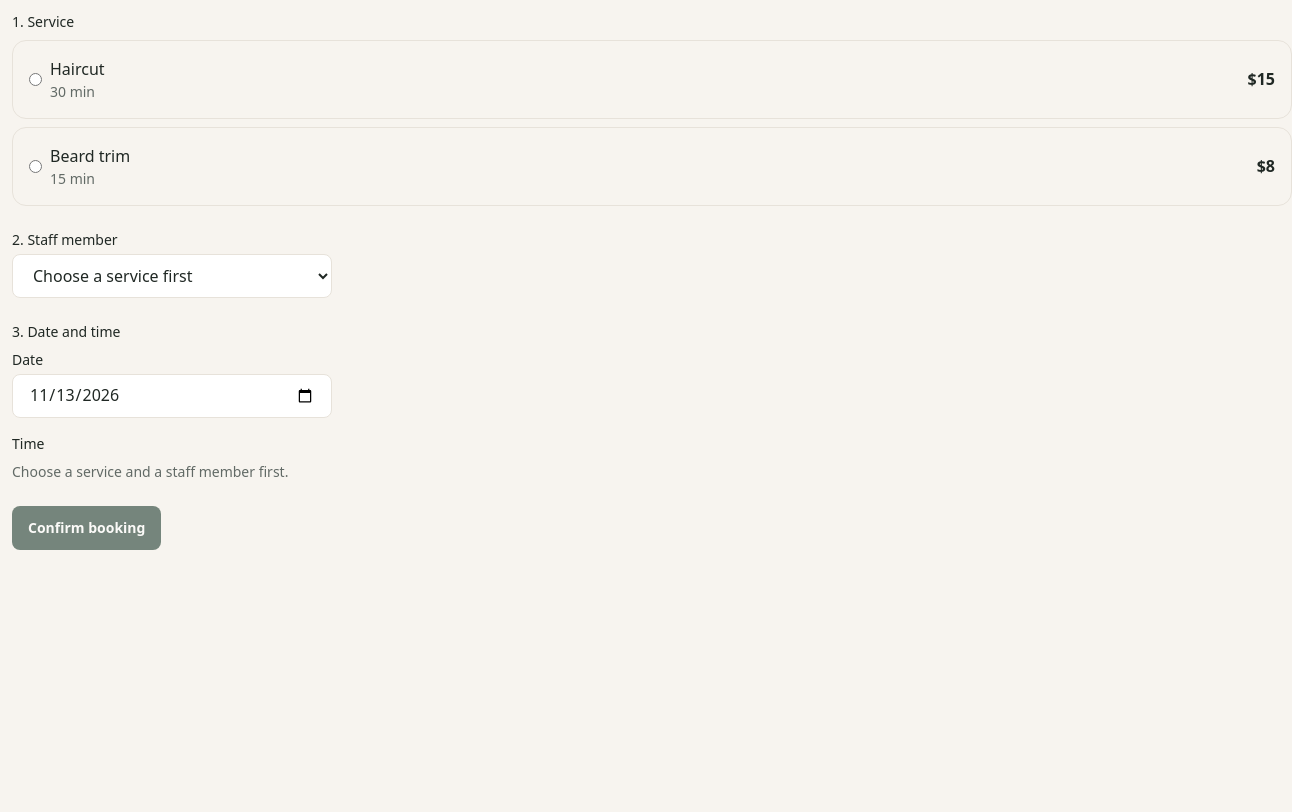
Test: BookingForm › keeps "Confirm booking" disabled until a free time is chosen, then sends the booking
Expected: the button "Confirm booking" is disabled, [12,506,161,550]
Step 1. Click the radio button labelled "Beard trim 15 min $8" → (36, 166), box [29,160,42,173]
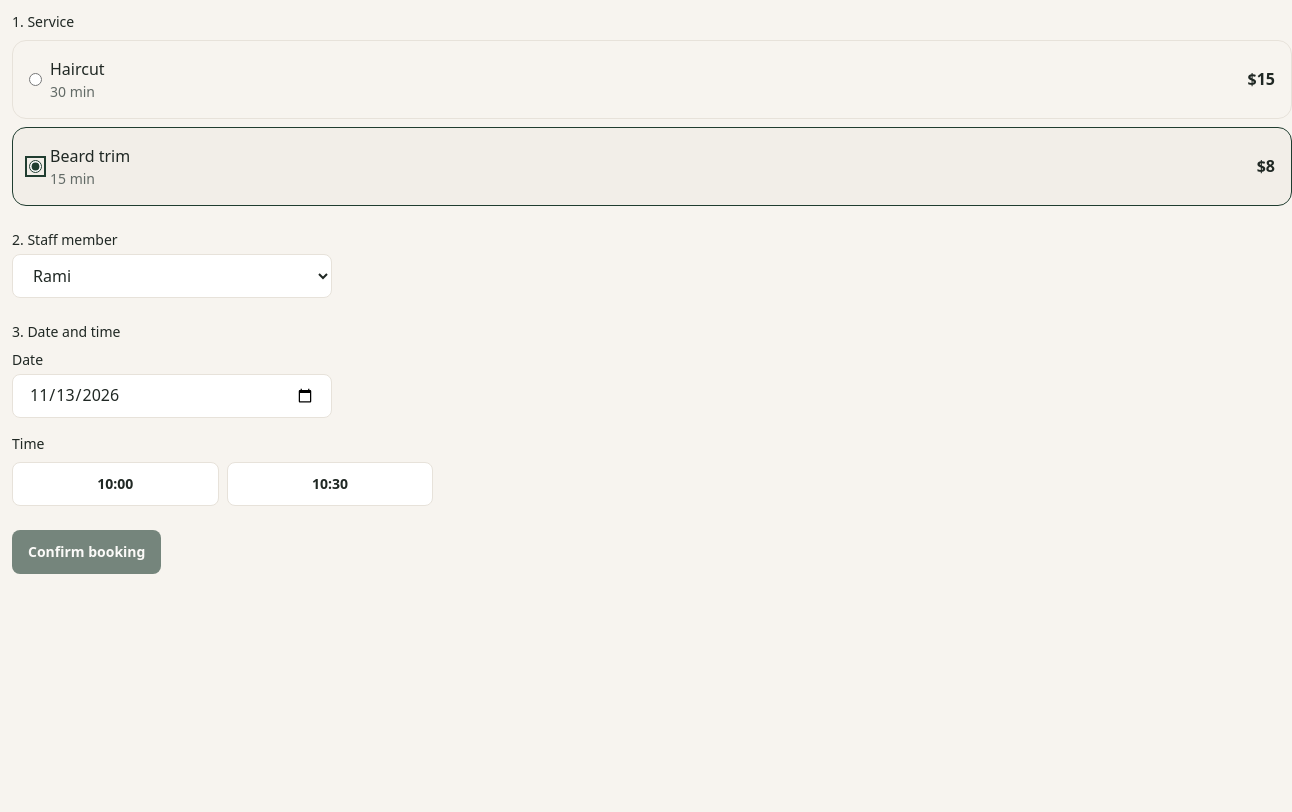
Step 2. Click the button "10:00" → (115, 484), box [12,462,219,506]
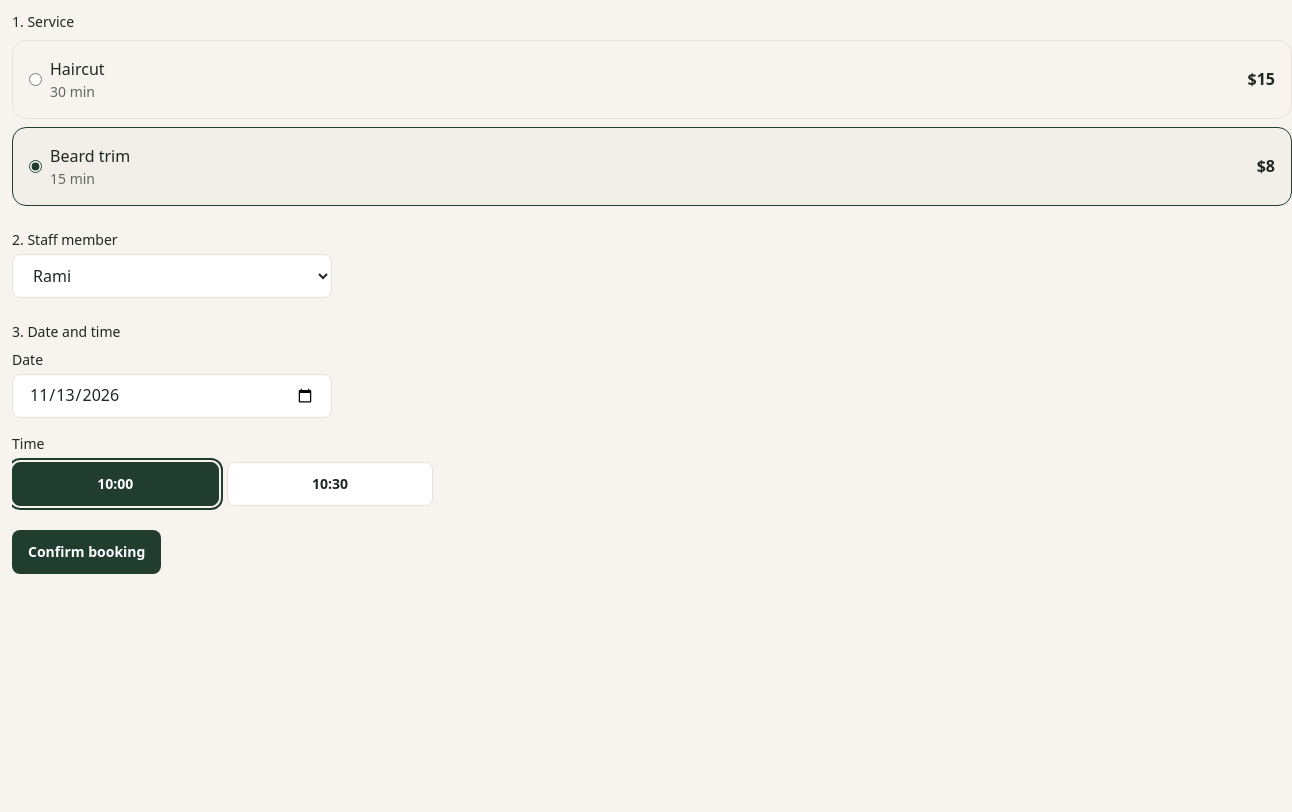
Now the button "Confirm booking" is enabled
Step 3. Click the button "Confirm booking" → (87, 552), box [12,530,161,574]
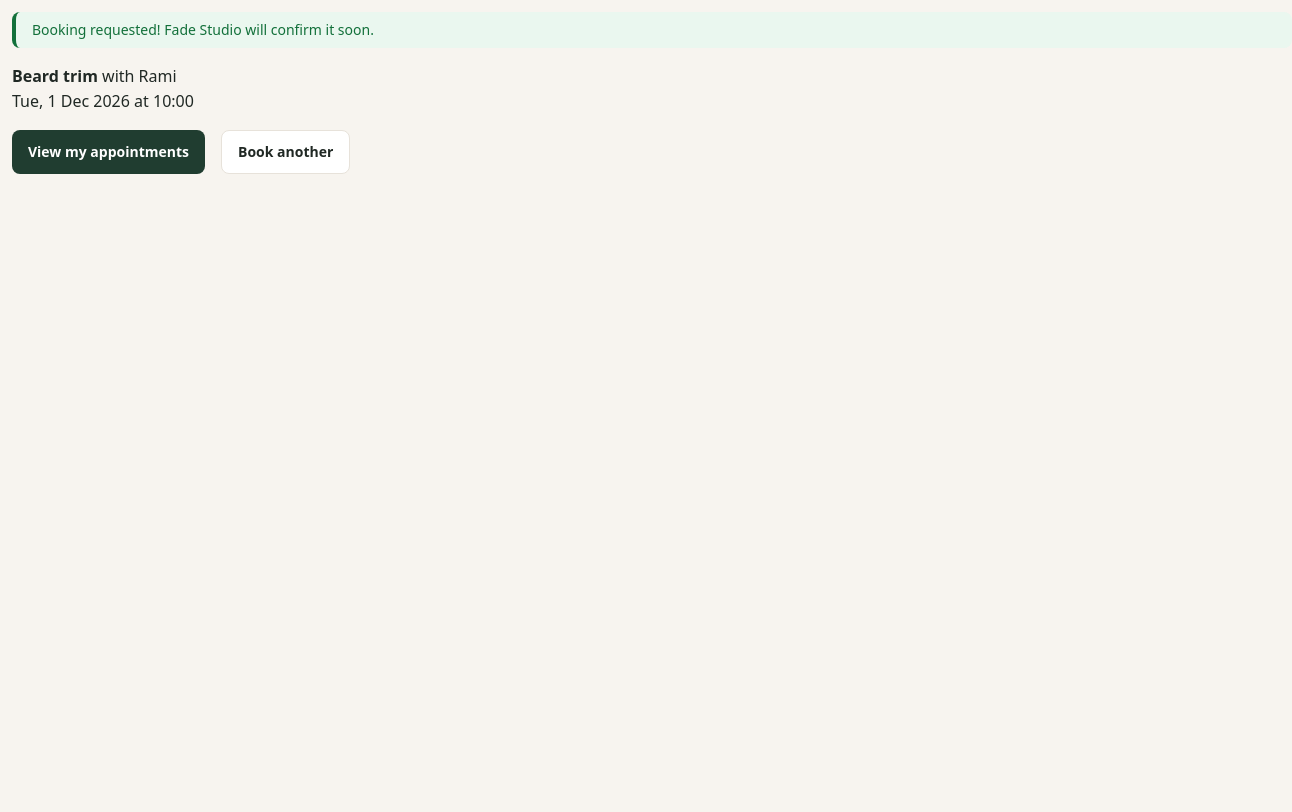
Now the text "Booking requested! Fade Studio will confirm it soon." is shown, box [12,12,1291,48]
